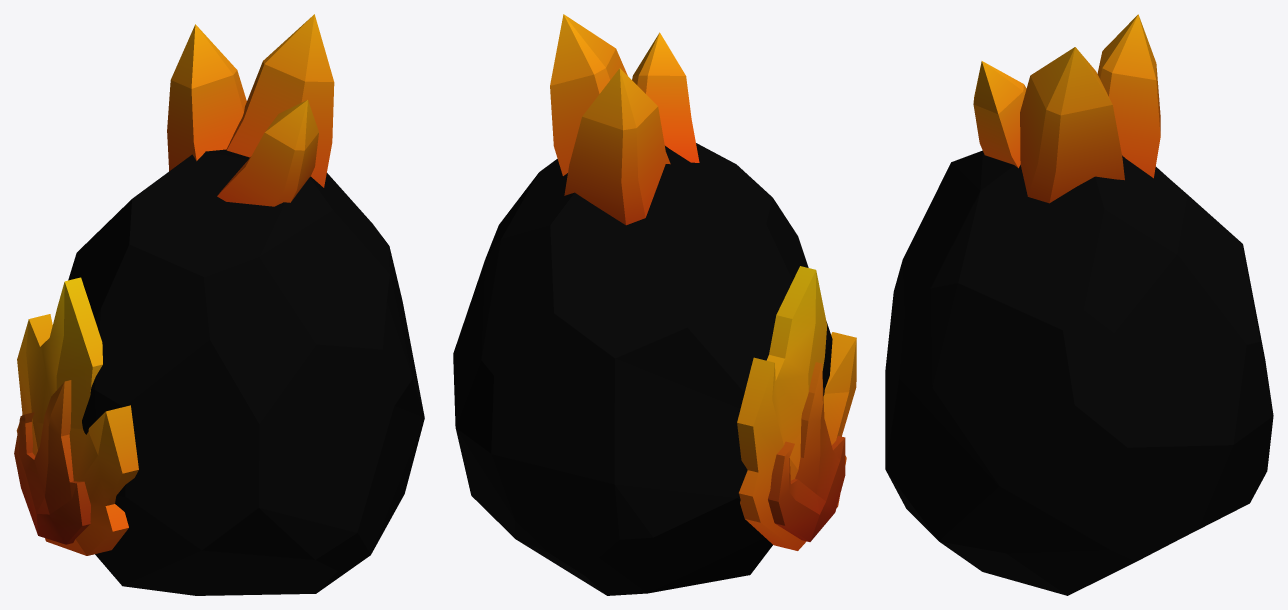
File: egg_designer_3.obj
The picture shows the model from 3 angles, left to right: view 1: azimuth 30°, elevation 25°; view 2: azimuth 150°, elevation 25°; view 3: azimuth 270°, elevation 25°; orthographic projection. The views are drawn at different scales.
Parts seen in each view (by area): view 1: egg_designer_3; view 2: egg_designer_3; view 3: egg_designer_3.
Part boxes in pixels (box(x1,y1,x2,y2)): egg_designer_3: box(14, 14, 424, 595); egg_designer_3: box(453, 14, 856, 595); egg_designer_3: box(885, 14, 1273, 595).
Bounding box in the file's own units: 6.08 × 8.84 × 5.6.
3 materials, 1 textured.
